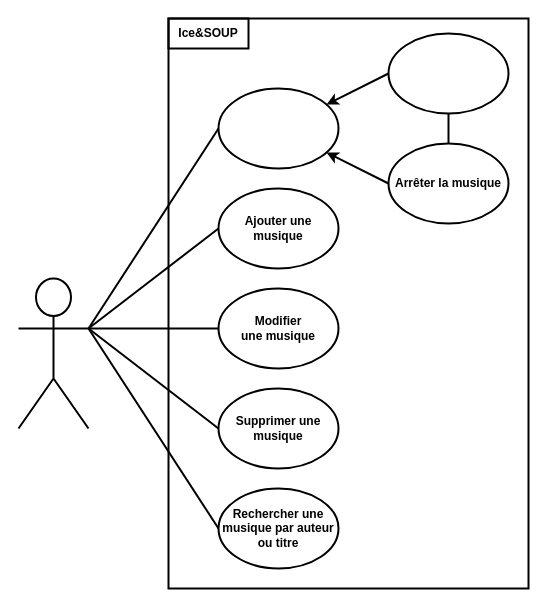
The diagram is 546 pixels wide and 606 high, and some of its shapes have lost their labels. Here are the shapes that lost their labels. From the top down, the centre of each, then its label:
the point at 448,73: Mettre pause à la musique
the point at 278,128: Jouer une musique
the point at 53,353: User
